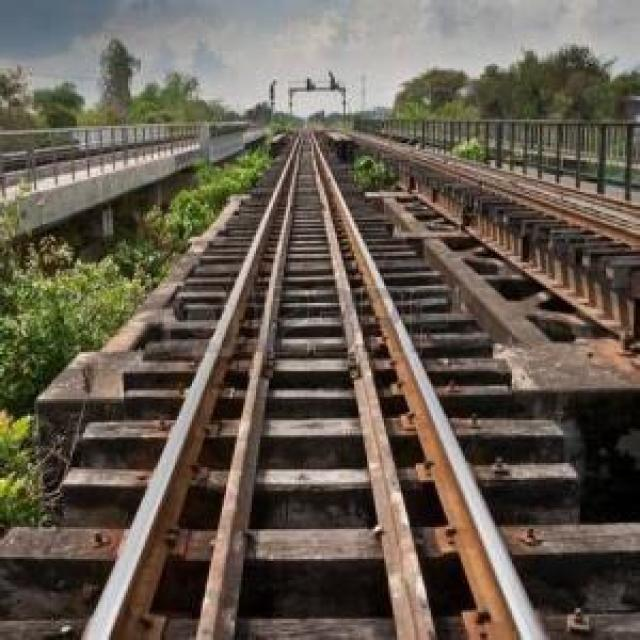rail: (54, 126, 569, 640)
